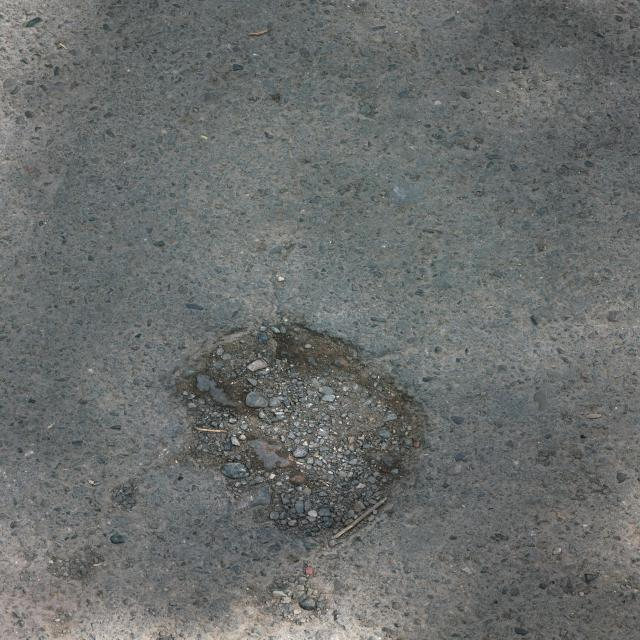Pothole: (170, 323, 421, 544)
